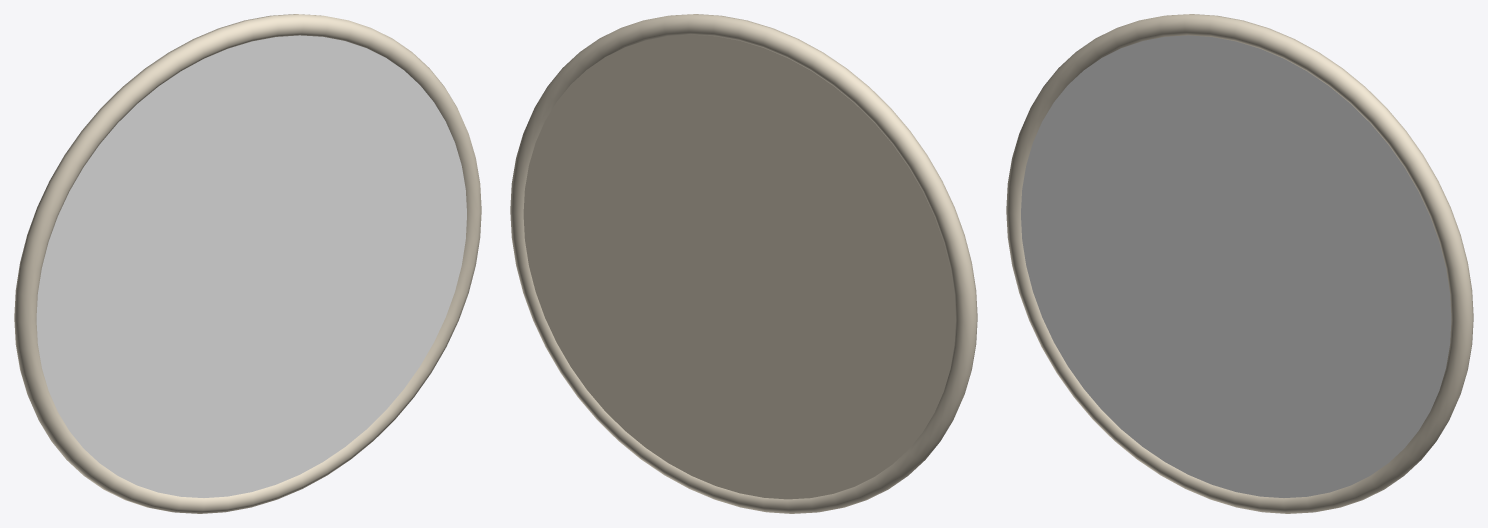
File: sg_mirror_round.glb
3 renders of one model, left to right at view 1: azimuth 30°, elevation 25°; view 2: azimuth 150°, elevation 25°; view 3: azimuth 330°, elevation 25°, orthographic.
Parts seen in each view (by area): view 1: glass, ring; view 2: back, ring; view 3: glass, ring.
Boxes of the visible parts, x1=… form: glass: x1=36, y1=35, x2=466, y2=497; ring: x1=14, y1=14, x2=481, y2=513; back: x1=523, y1=34, x2=955, y2=499; ring: x1=510, y1=14, x2=977, y2=513; glass: x1=1021, y1=35, x2=1451, y2=497; ring: x1=1006, y1=14, x2=1473, y2=513.
Size of the model in its own units: 0.7 by 0.7 by 0.0285.
